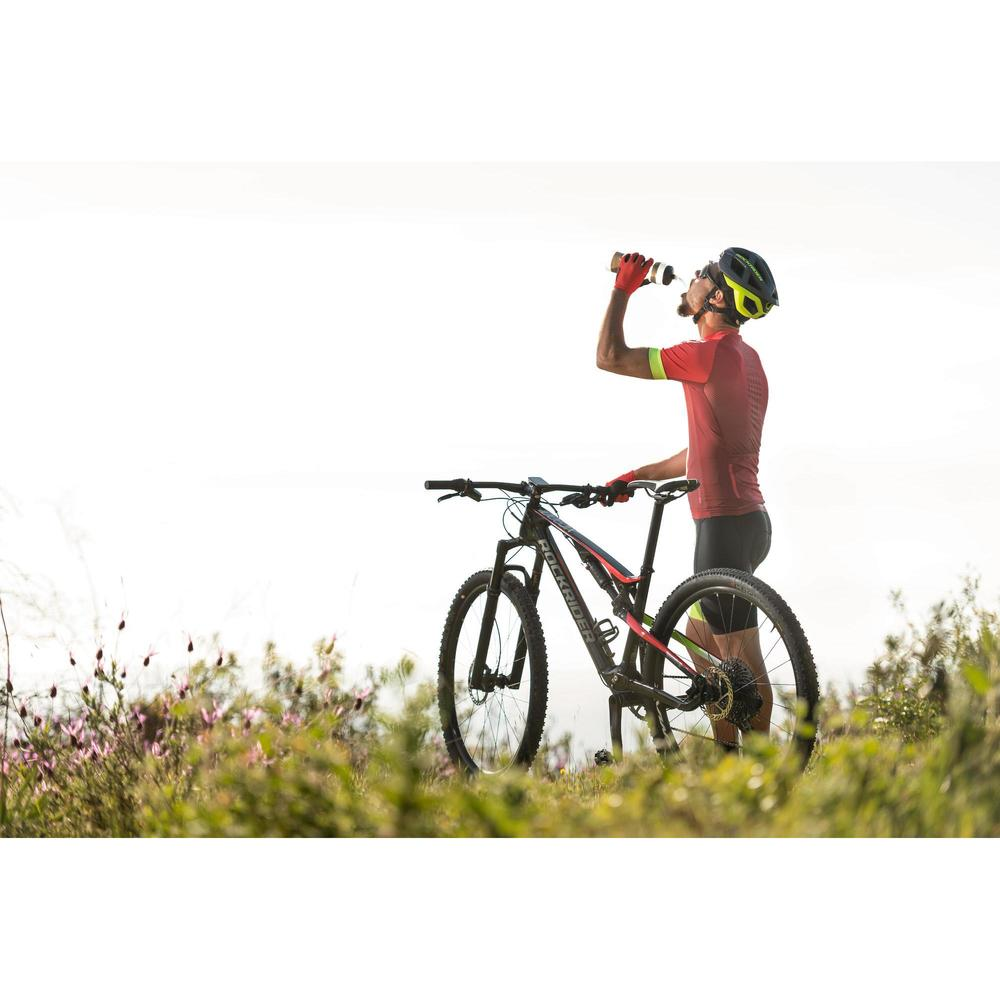MountainBike: (415, 478, 834, 771)
